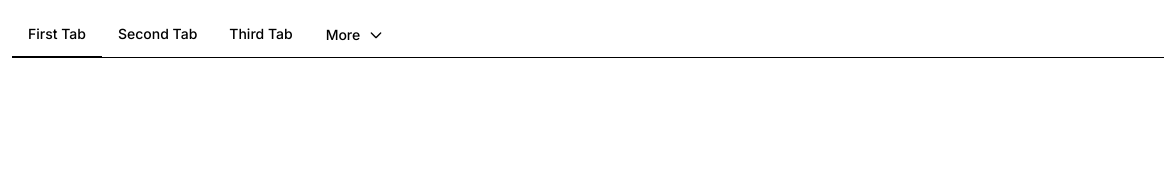
Test case: TabNavigation › Overflow tabs (More menu) › closes dropdown when clicking outside
Click the button with test id "tab-more" at (355, 36), box [309, 12, 401, 59]
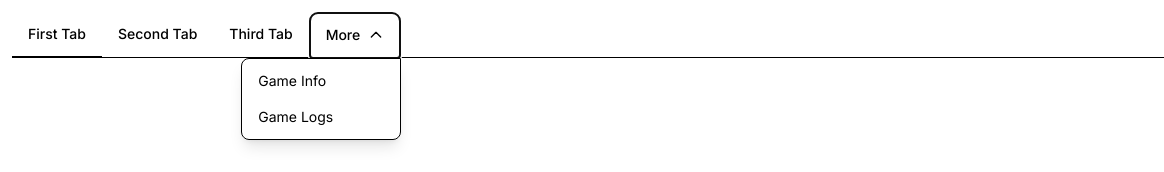
Check: the button with test id "tab-info" is shown, box [242, 63, 400, 99]
Click the element showing "First Tab Second Tab Third Tab More Game Info Game Logs" at (588, 35), box [12, 12, 1163, 58]
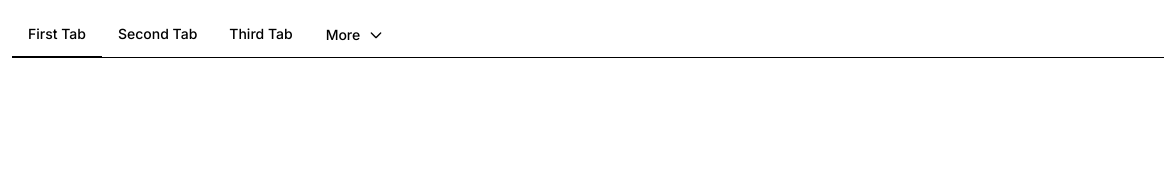
Check: the button with test id "tab-info" is gone
